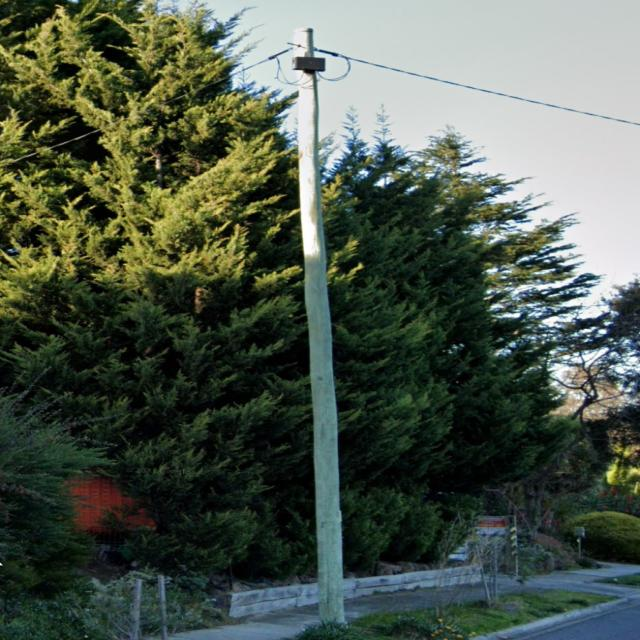timber-pole: (293, 26, 347, 624)
top mount suitable pole: (293, 26, 347, 625)
